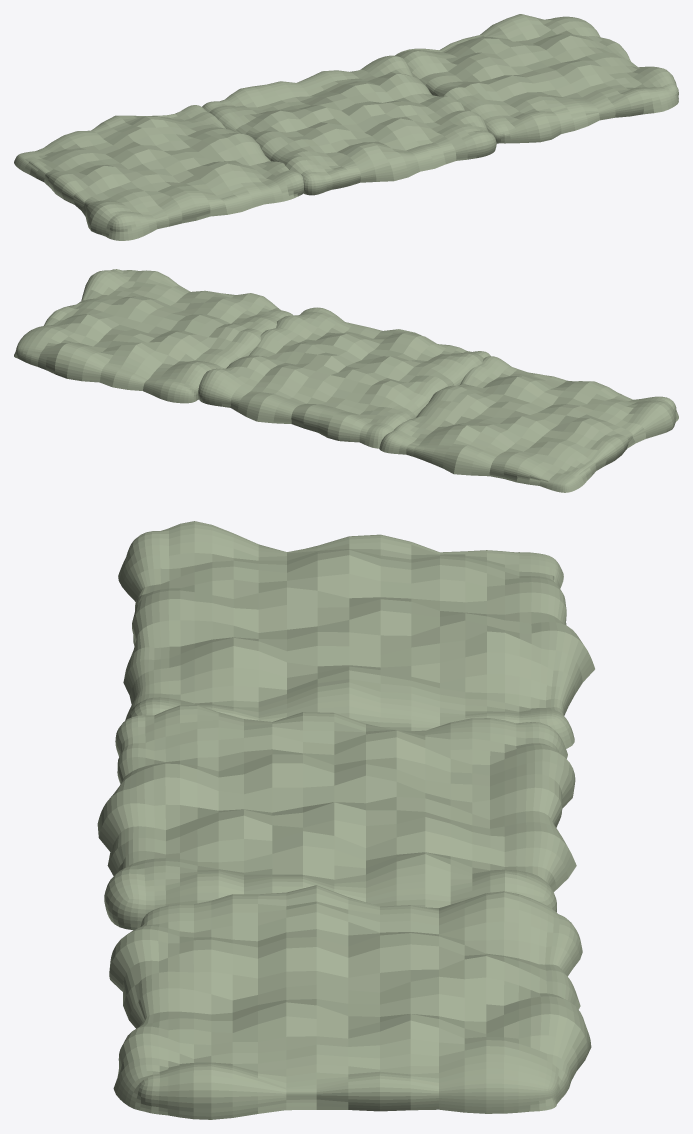
File: gravel.fbx
The picture shows the model from 3 angles, top to bottom: view 1: azimuth 30°, elevation 25°; view 2: azimuth 150°, elevation 25°; view 3: azimuth 270°, elevation 25°; orthographic projection. The views are drawn at different scales.
Parts seen in each view (by area): view 1: Plane.005, Plane.006, Plane.007; view 2: Plane.006, Plane.005, Plane.007; view 3: Plane.007, Plane.005, Plane.006.
Part boxes in pixels (x1,y1,x2,y2): Plane.005: (202,55,496,195); Plane.006: (14,105,303,240); Plane.007: (395,14,678,143); Plane.006: (379,356,678,492); Plane.005: (198,307,490,448); Plane.007: (14,269,293,403); Plane.007: (109,885,591,1119); Plane.005: (97,704,576,930); Plane.006: (118,521,594,748).
Bounding box in the file's own units: 624 × 26.91 × 232.
